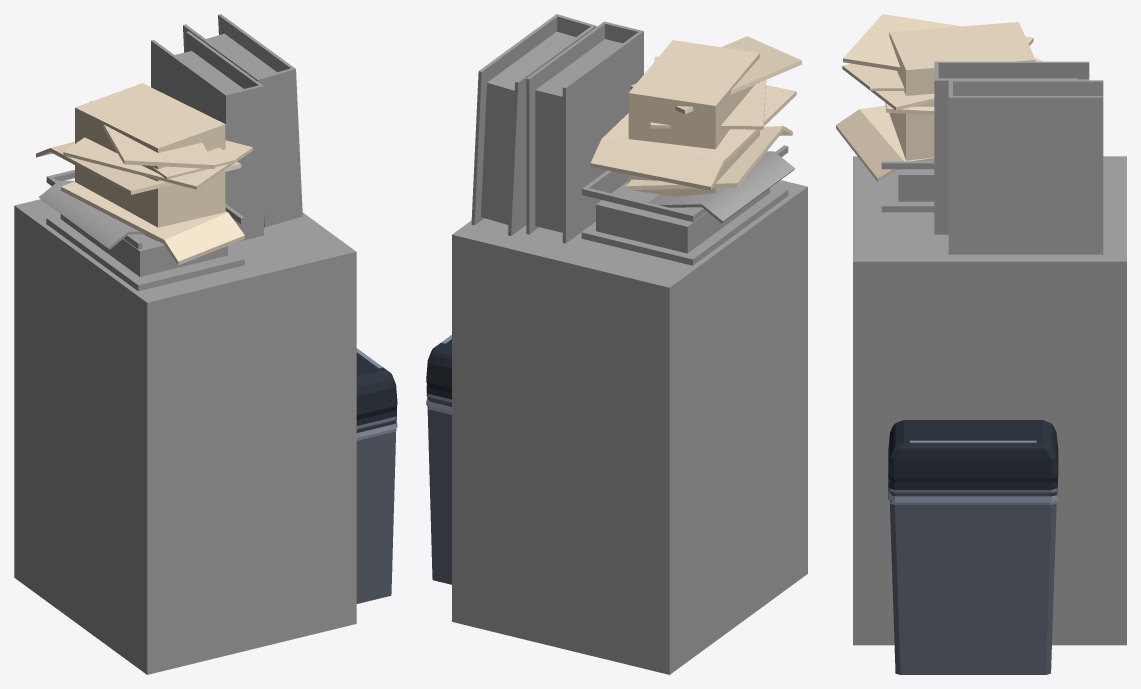
Rendered from g_o_paperwork.fbx.
3 views of the same model, side by side, from view 1: azimuth 30°, elevation 25°; view 2: azimuth 150°, elevation 25°; view 3: azimuth 270°, elevation 25° (orthographic). The views are drawn at different scales.
Parts seen in each view (by area): view 1: g_o_paperwork; view 2: g_o_paperwork; view 3: g_o_paperwork.
Boxes of the visible parts, box(x1,y1,x2,y2) form: g_o_paperwork: box(14, 14, 397, 674); g_o_paperwork: box(426, 14, 807, 674); g_o_paperwork: box(836, 14, 1126, 674).
Size of the model in its own units: 0.4915 by 0.8469 by 0.4126.
